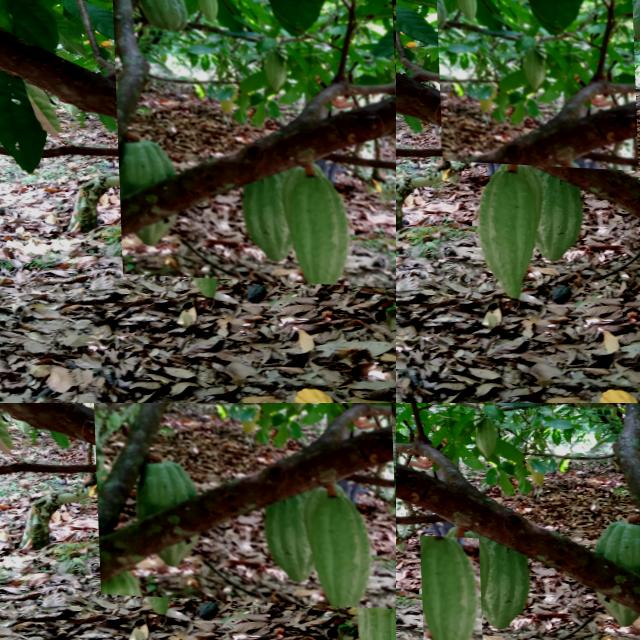Monilia: (109, 0, 396, 282)
Sana: (84, 403, 395, 604), (429, 0, 635, 166), (579, 0, 640, 191), (417, 532, 479, 640), (476, 530, 518, 630), (592, 512, 640, 568), (476, 415, 500, 463)
